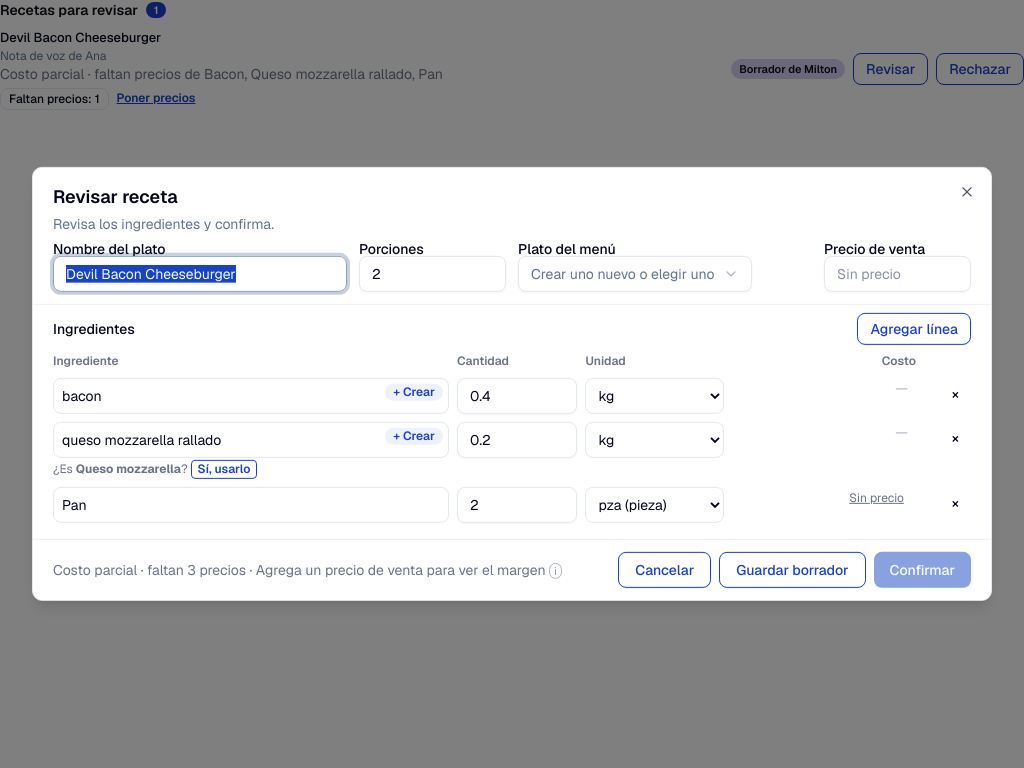
creating an ingredient: one click, sentence case › the «+ Crear» chip saves «Bacon» (sentence case) with no price, selects it and shows «Sin precio»
Click the button named "Crear \"Bacon\"": [414, 393] box [385,384,443,401]
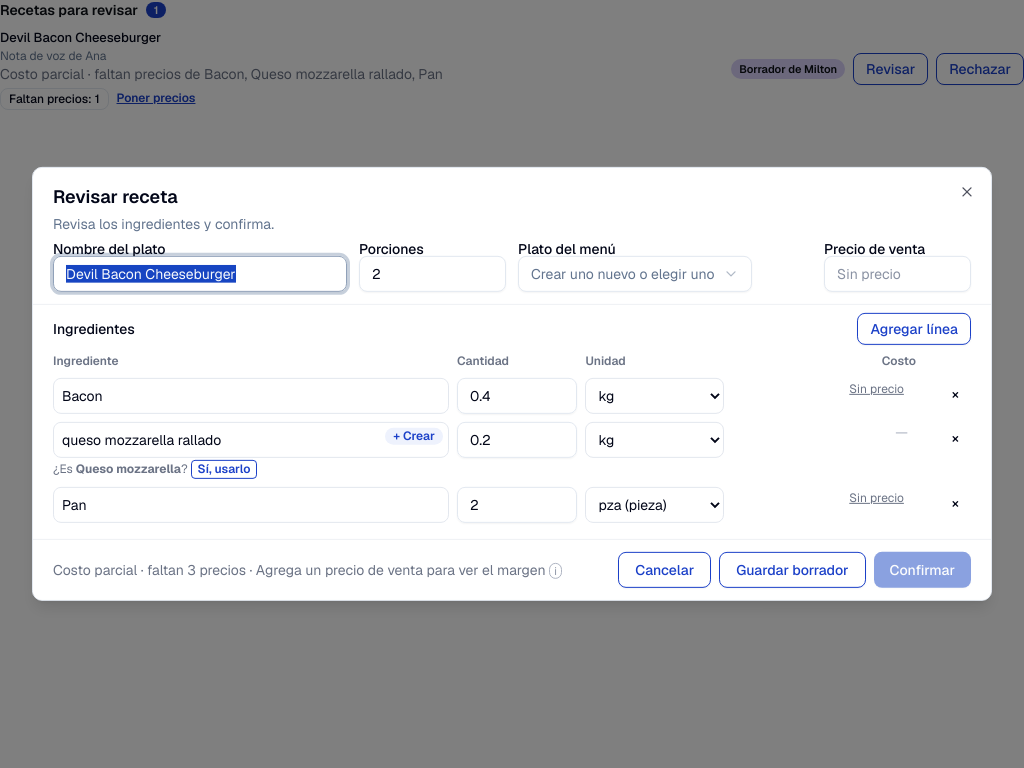
expect the 1st button "Sin precio" is shown: met, box [845,381,908,398]
